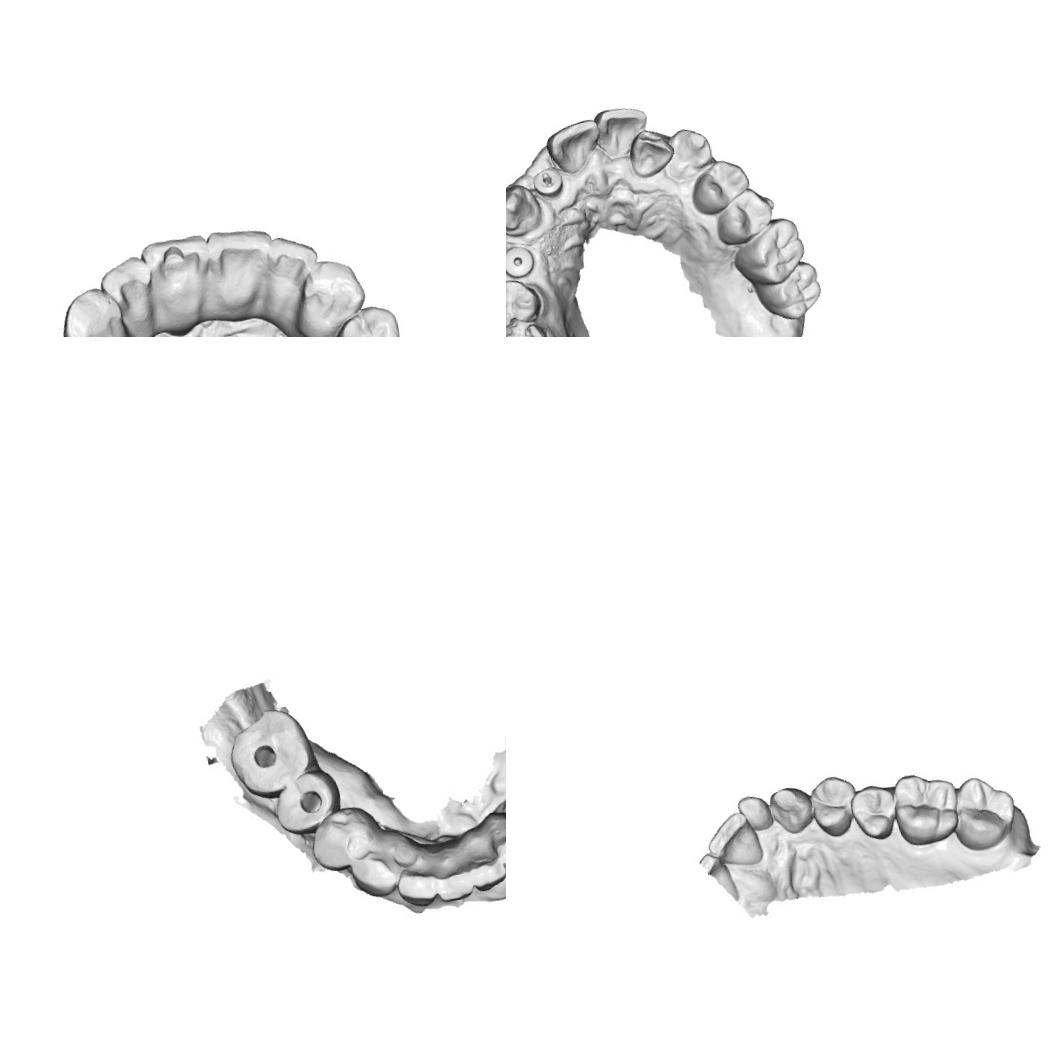canine: (289, 253, 373, 337), (58, 281, 135, 337), (345, 845, 406, 904), (663, 124, 716, 180), (766, 783, 816, 838), (506, 180, 546, 240)
implant: (506, 242, 537, 280)
implant_minus: (530, 165, 566, 198)
incisor: (138, 232, 219, 316), (204, 224, 282, 306), (95, 252, 159, 330), (260, 230, 325, 306), (702, 808, 765, 871), (592, 102, 654, 163), (543, 117, 604, 179), (626, 124, 678, 180), (393, 864, 440, 910), (430, 868, 478, 906), (735, 791, 776, 835), (469, 854, 506, 898), (496, 825, 506, 872)
molar: (222, 703, 320, 803), (946, 770, 1022, 854), (728, 214, 810, 290), (890, 767, 964, 849), (752, 258, 826, 325)
premolar: (268, 766, 346, 837), (303, 803, 378, 876), (710, 184, 777, 248), (686, 155, 754, 218), (806, 772, 863, 840), (847, 782, 901, 844), (329, 297, 407, 337), (506, 275, 543, 330)
